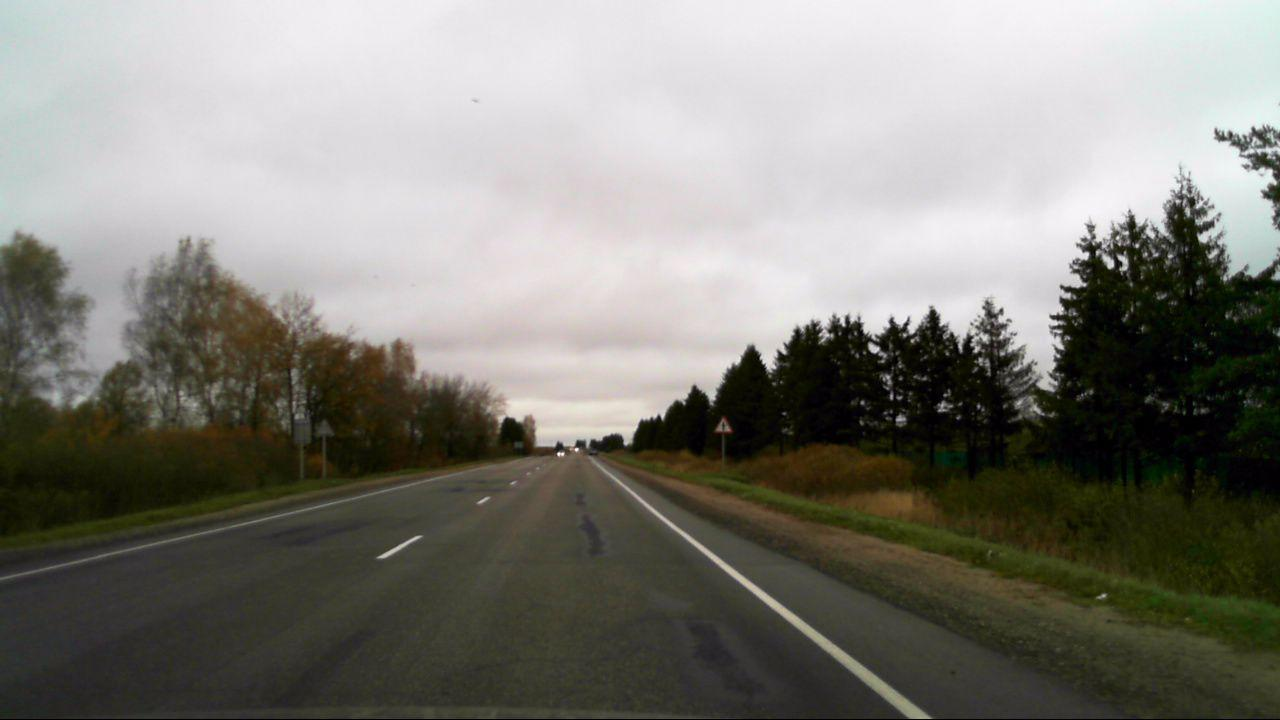road_sign: (712, 415, 735, 434)
